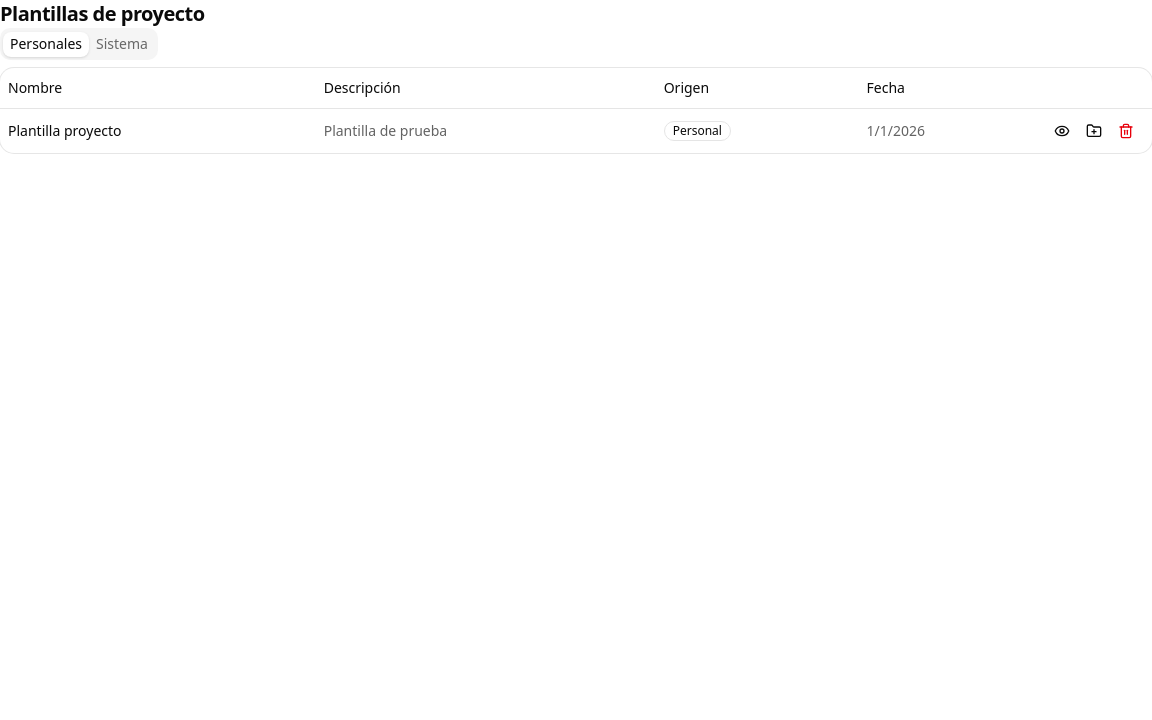
Test: PlantillasProyectoPage › elimina una plantilla tras confirmación
Check: the text "Plantilla proyecto" is shown, box [0,108,316,152]
Click the button named "Eliminar plantilla". click: (1126,130)
box: [1112,116,1140,144]
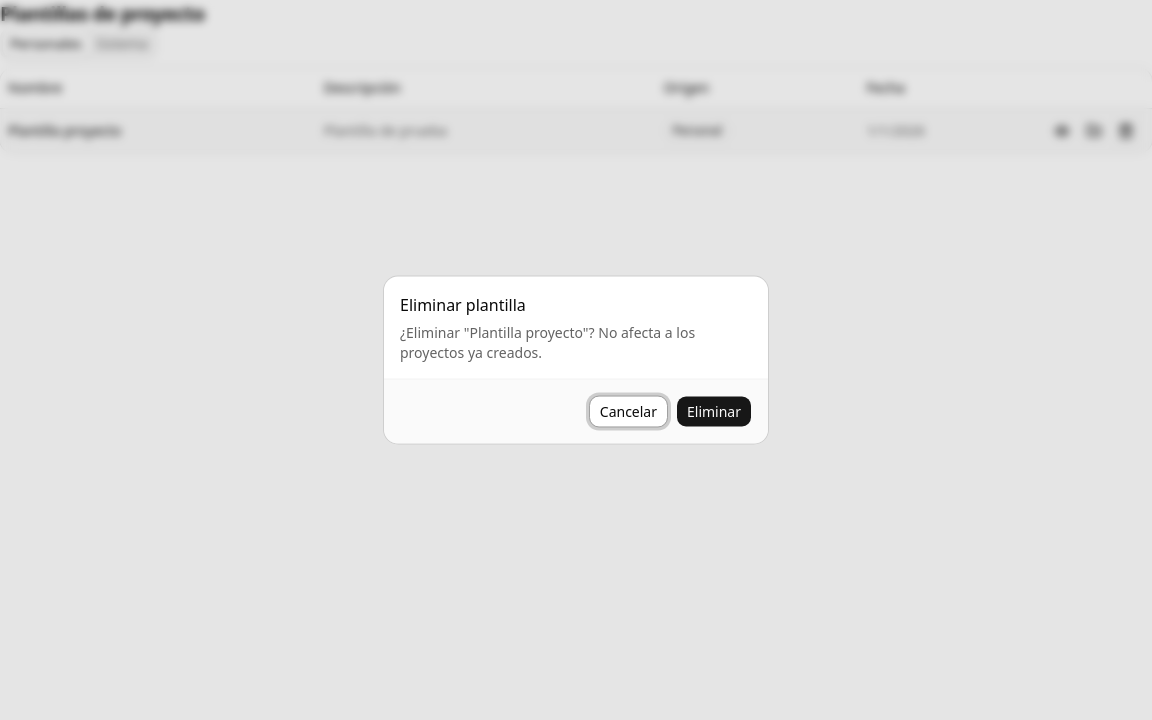
Check: the heading "Eliminar plantilla" is shown, box [400,292,526,316]
Click the button "Eliminar". click: (714,412)
box: [676,396,752,428]
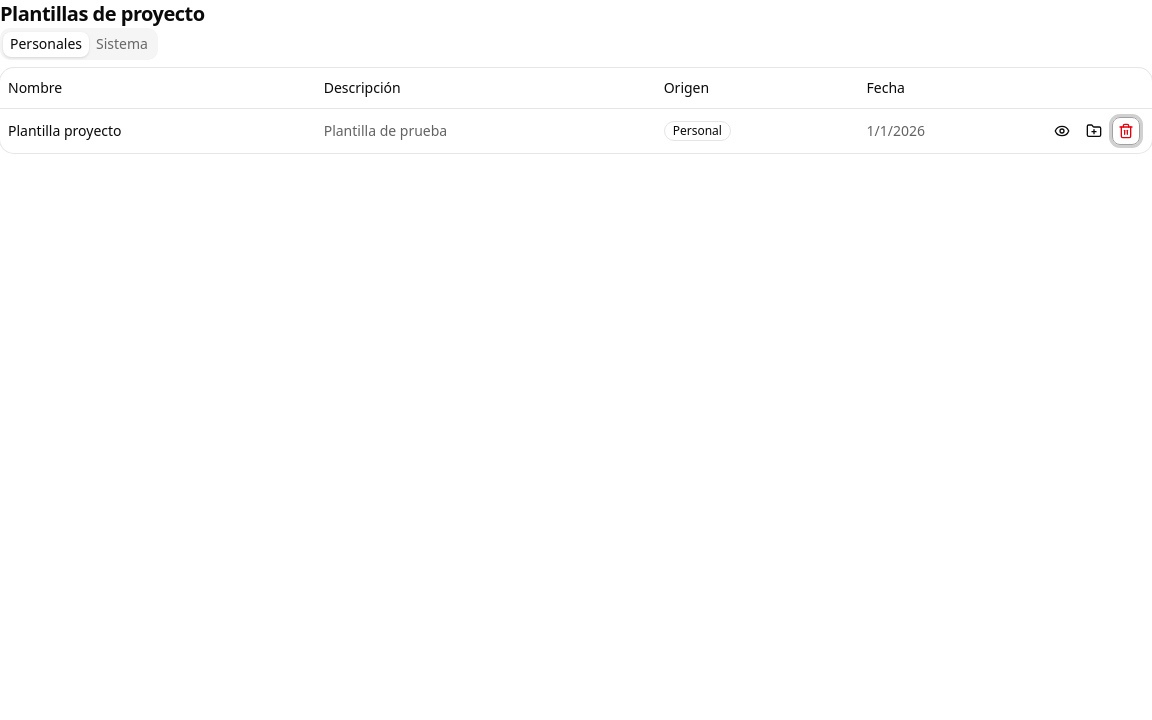
Check: the heading "Eliminar plantilla" is gone
